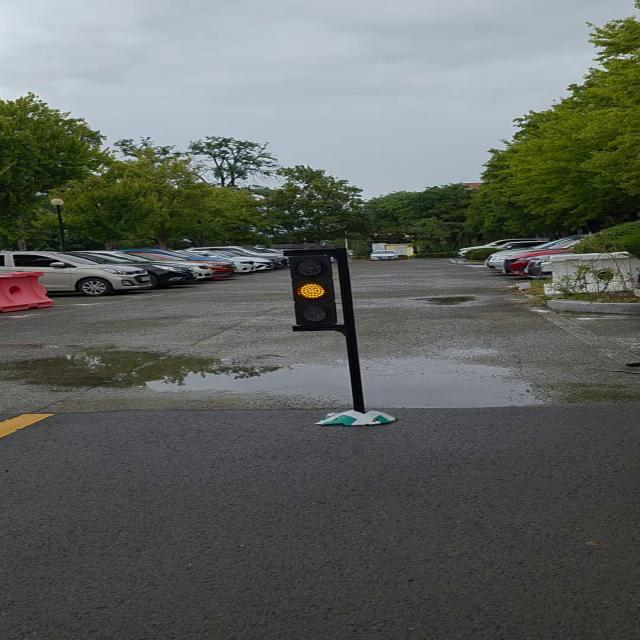yellow: (283, 248, 350, 331)
